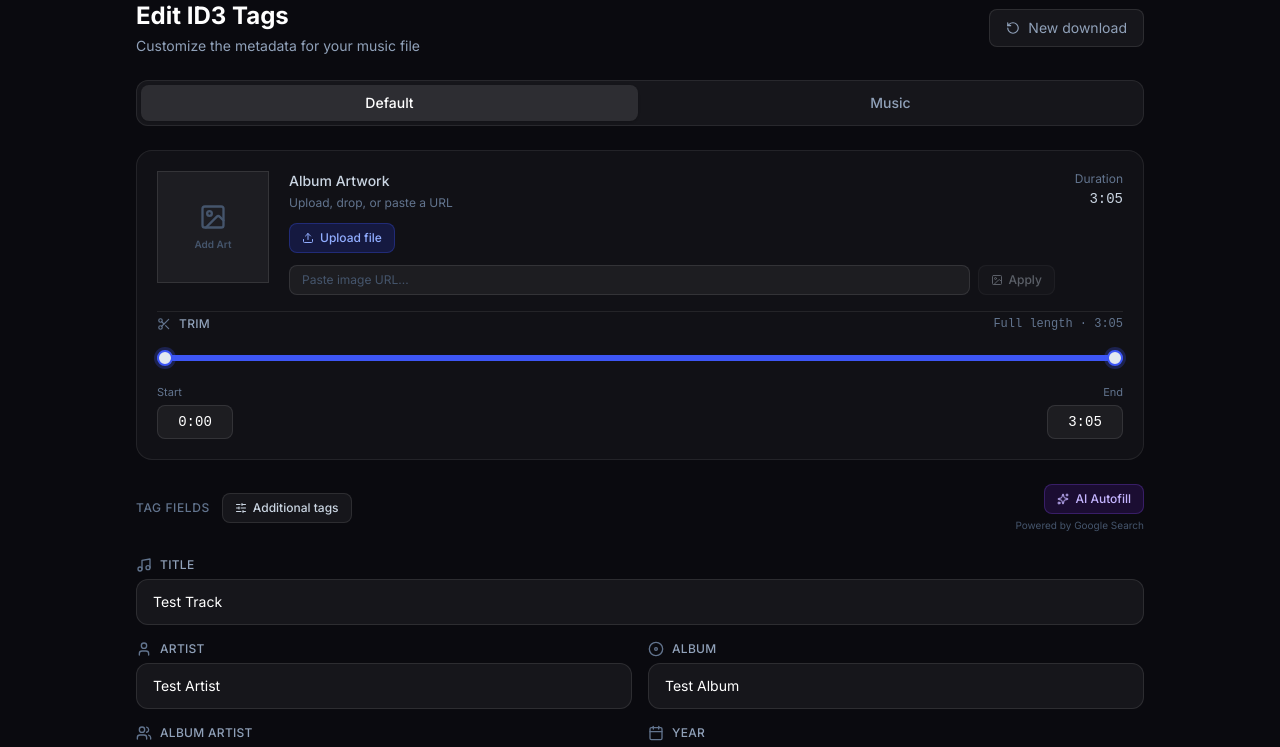
Test: TagEditor mappings library › can sort by display name or date added
Click the button "music": (890, 103) [642,85,1139,121]
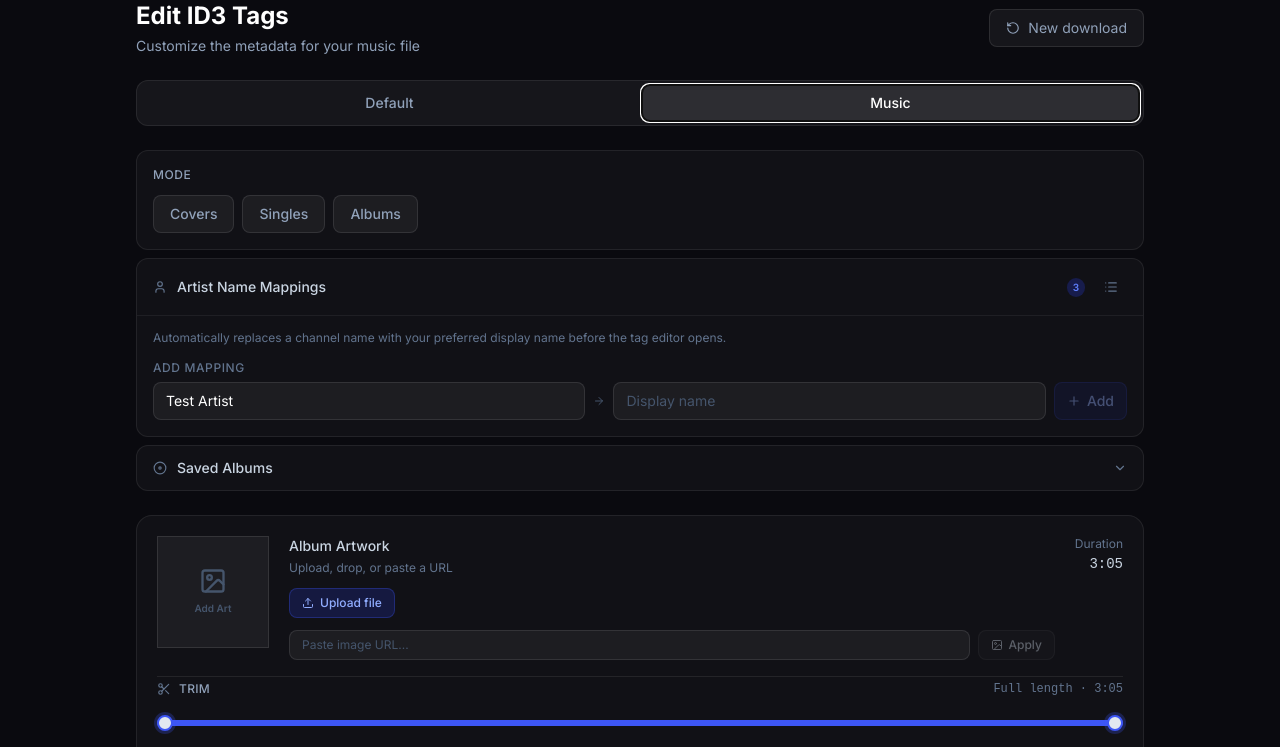
Click the button named "manage saved mappings": (1111, 287) [1095,271,1127,303]
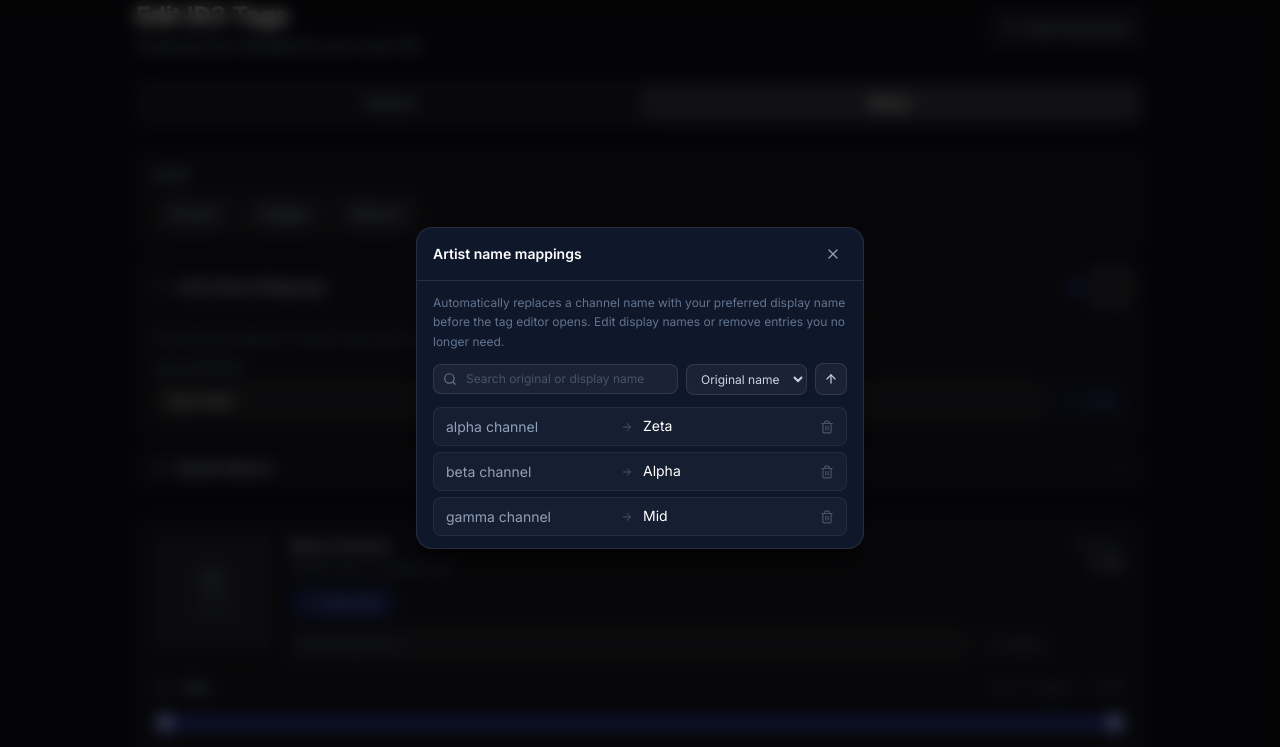
Now the field named "Display name for alpha channel" is shown, box [641,416,812,437]
Select "Display name" in the dropdown named "sort mappings by": (746, 379) [686,364,807,395]
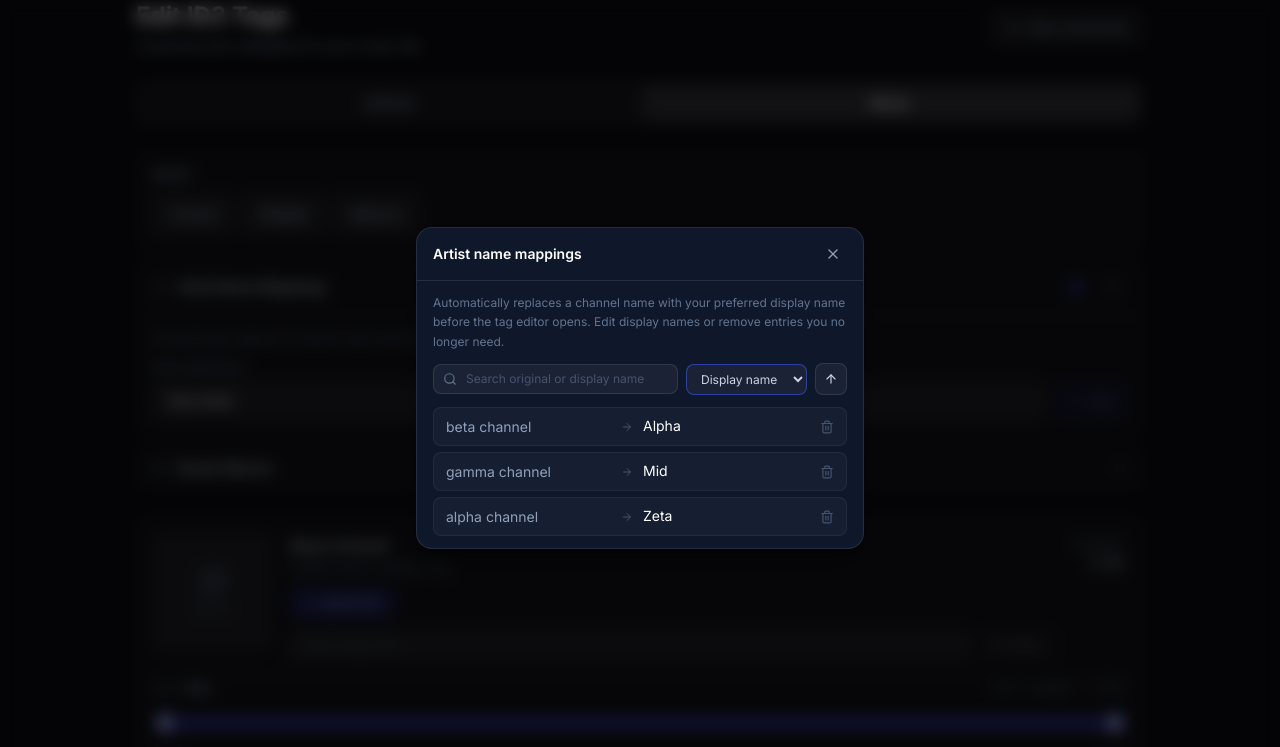
Select "Date added" in the dropdown named "sort mappings by": (746, 379) [686,364,807,395]
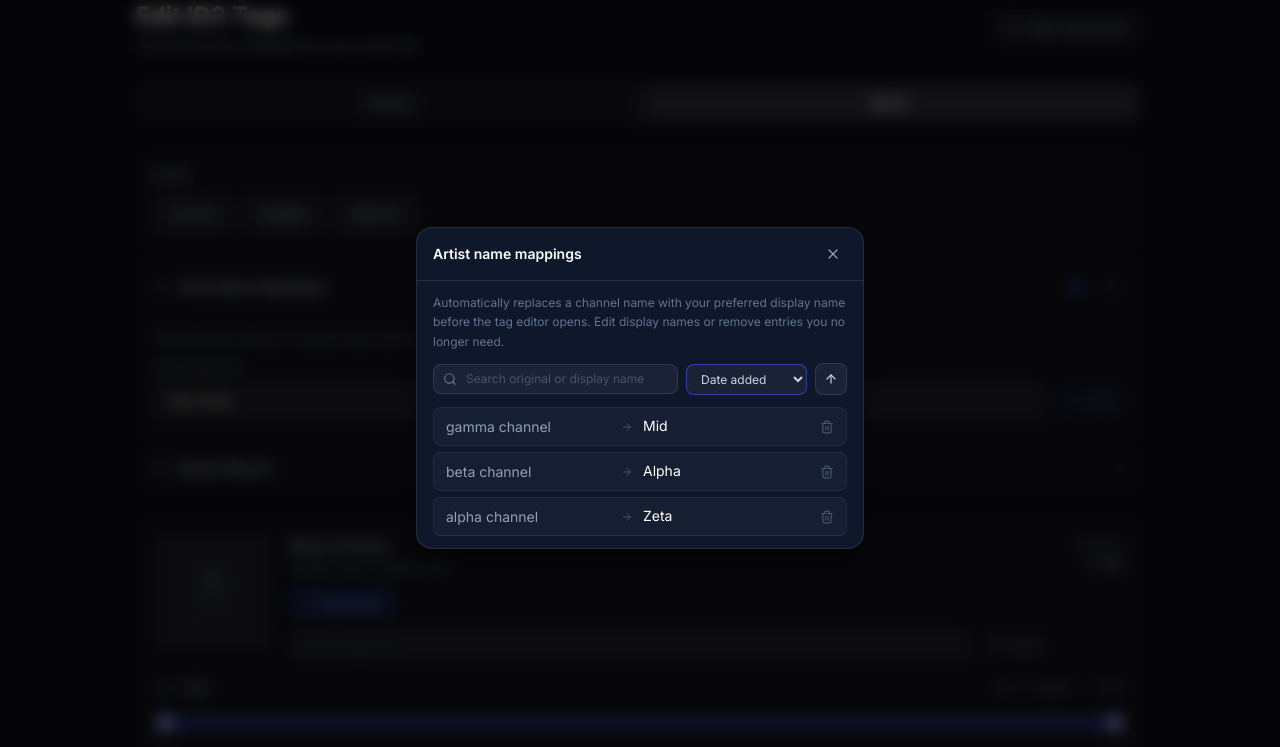
Click the button named "sort direction: ascending (oldest first)": (831, 379) [815,363,847,395]
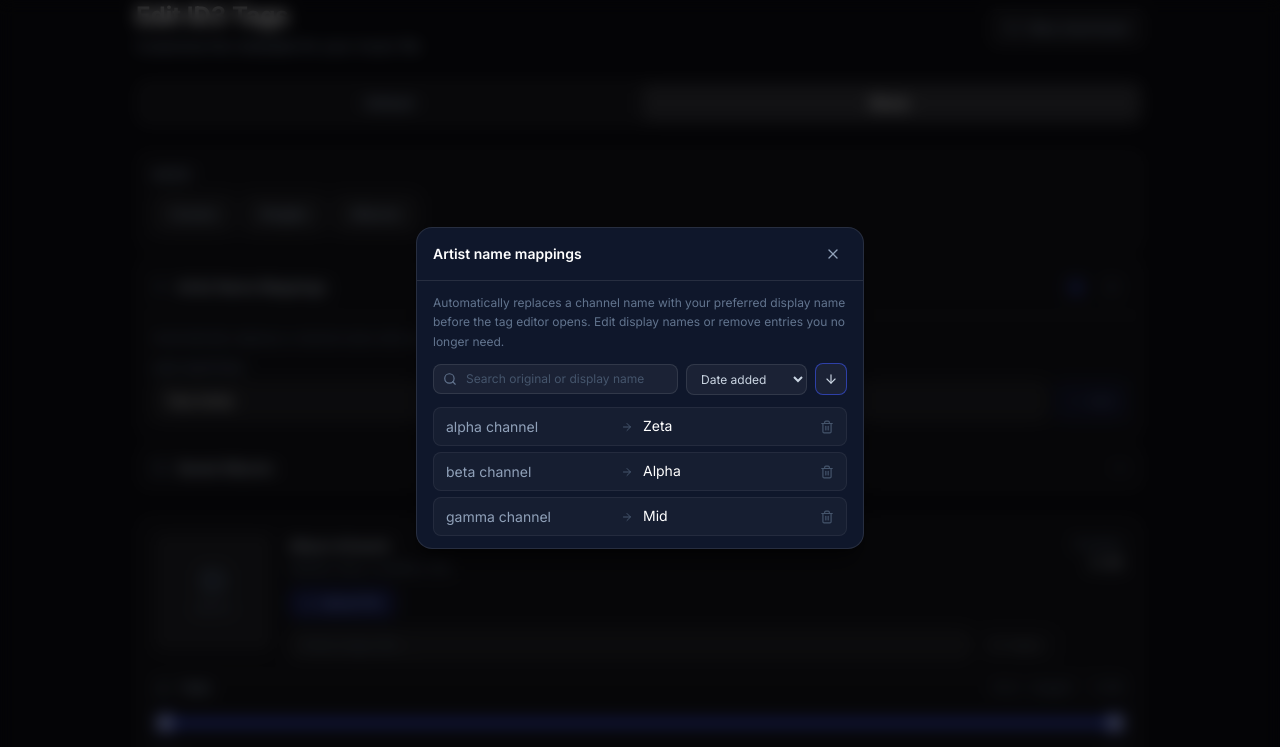
Now the button named "descending (newest first)" is shown, box [815,363,847,395]
